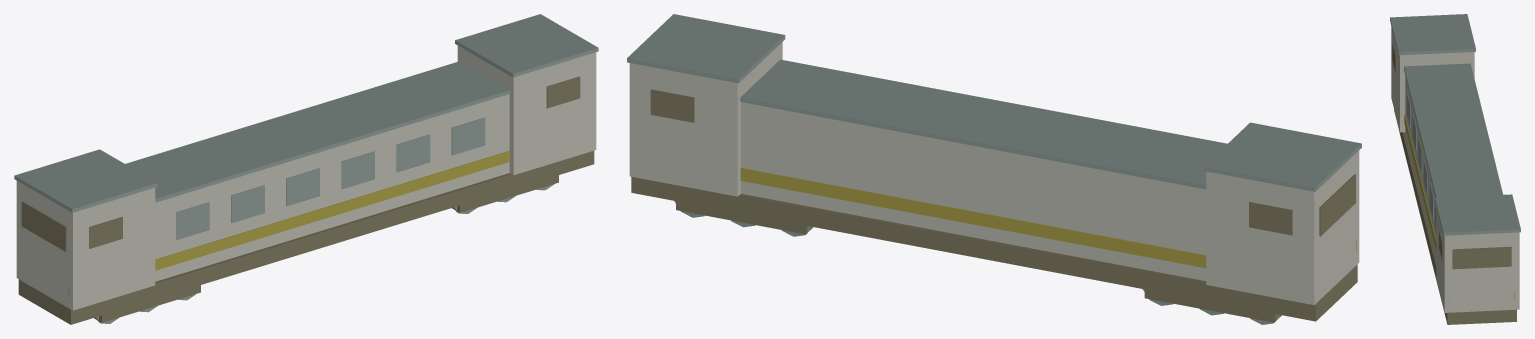
File: SM_Locomotora_v0_Descarrilada_LOD0.fbx
The picture shows the model from 3 angles, left to right: view 1: azimuth 30°, elevation 25°; view 2: azimuth 150°, elevation 25°; view 3: azimuth 270°, elevation 25°; orthographic projection. The views are drawn at different scales.
Visible parts, largest first — view 1: SM_aqui_paso_algo_v0_LOD0; view 2: SM_aqui_paso_algo_v0_LOD0; view 3: SM_aqui_paso_algo_v0_LOD0.
Boxes of the visible parts, x1,y1,x2,y2 form: SM_aqui_paso_algo_v0_LOD0: (14,14,598,324); SM_aqui_paso_algo_v0_LOD0: (627,14,1361,324); SM_aqui_paso_algo_v0_LOD0: (1390,14,1520,324).
Bounding box in the file's own units: 19.3 × 4.32 × 4.88.
